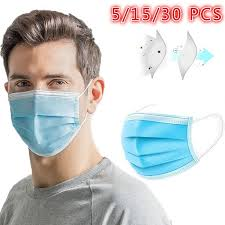mask: (4, 31, 90, 157)
